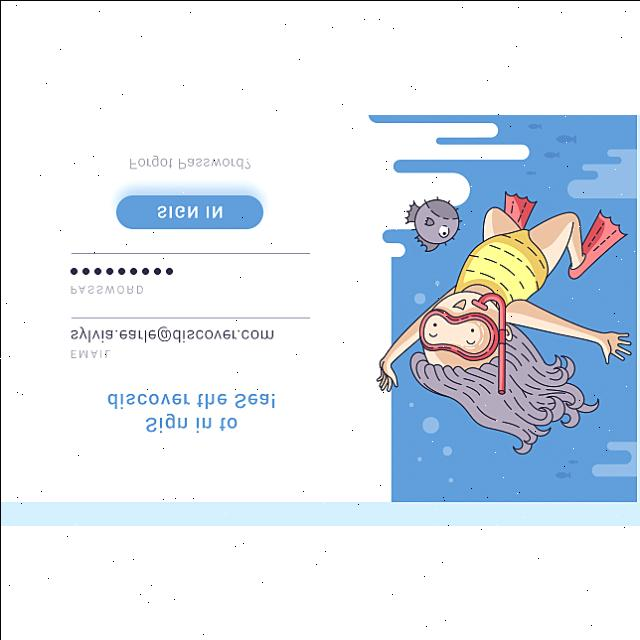QLabel: (103, 383, 285, 449), (124, 154, 253, 170), (156, 203, 222, 220)
VBtn: (114, 194, 264, 230)
VCard: (1, 115, 640, 507)
VImg: (366, 115, 634, 503)
VTextField: (64, 249, 314, 303), (62, 311, 312, 363)
